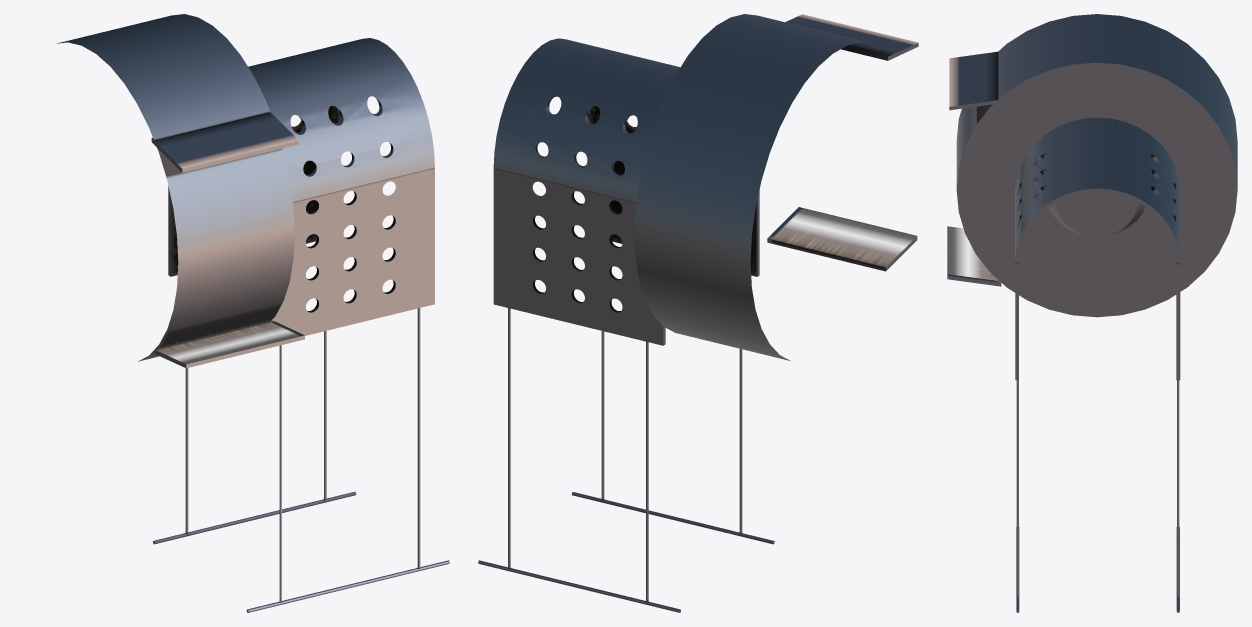
File: dianzi_3.glb
The picture shows the model from 3 angles, left to right: view 1: azimuth 30°, elevation 25°; view 2: azimuth 150°, elevation 25°; view 3: azimuth 270°, elevation 25°; orthographic projection. The views are drawn at different scales.
Visible parts, largest first — view 1: 零件; view 2: 零件; view 3: 零件.
Part boxes in pixels (box(x1,y1,x2,y2)): 零件: box(57, 14, 449, 612); 零件: box(478, 14, 918, 612); 零件: box(947, 14, 1237, 612).
Size of the model in its own units: 2.88 by 4.94 by 2.76.
Materials: 2 (2 with a texture image).
